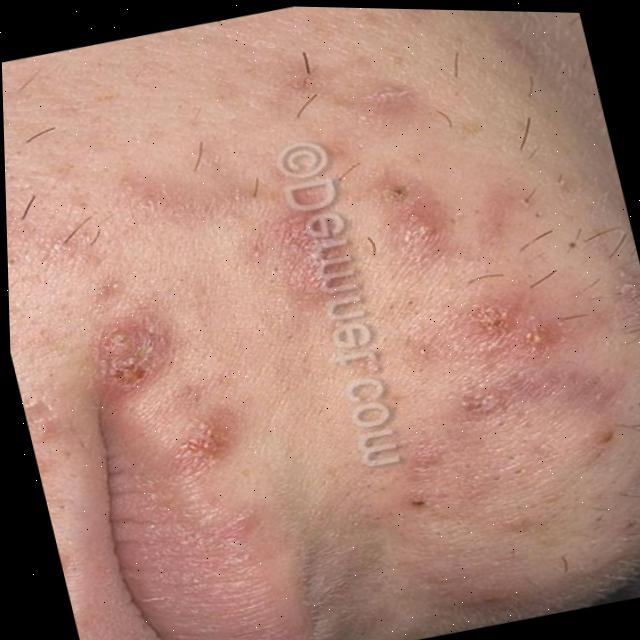Rosacea: (25, 1, 640, 492)
